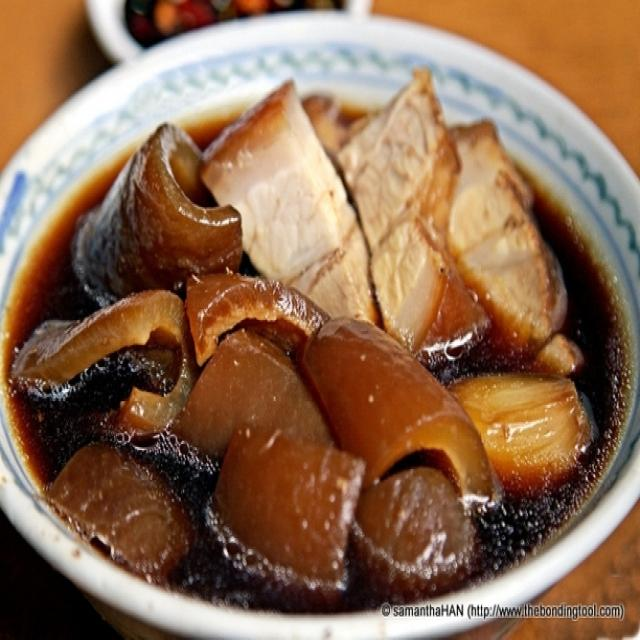汤锅炖物: (15, 50, 608, 602)
